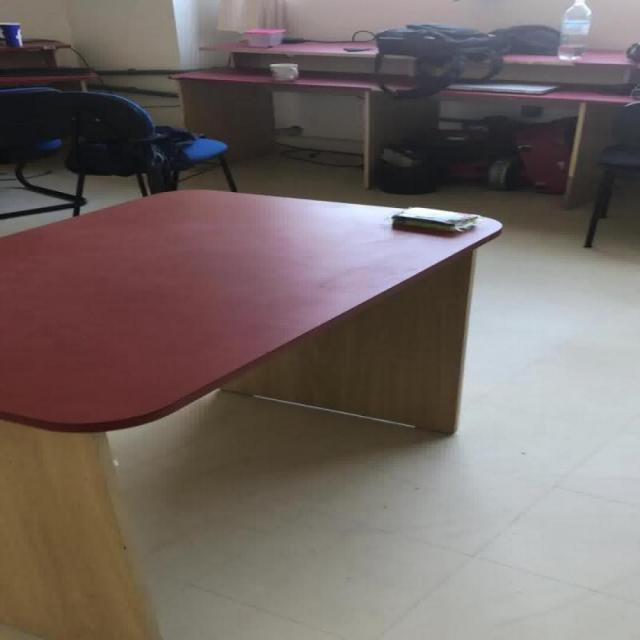Sponge: (390, 205, 481, 232)
